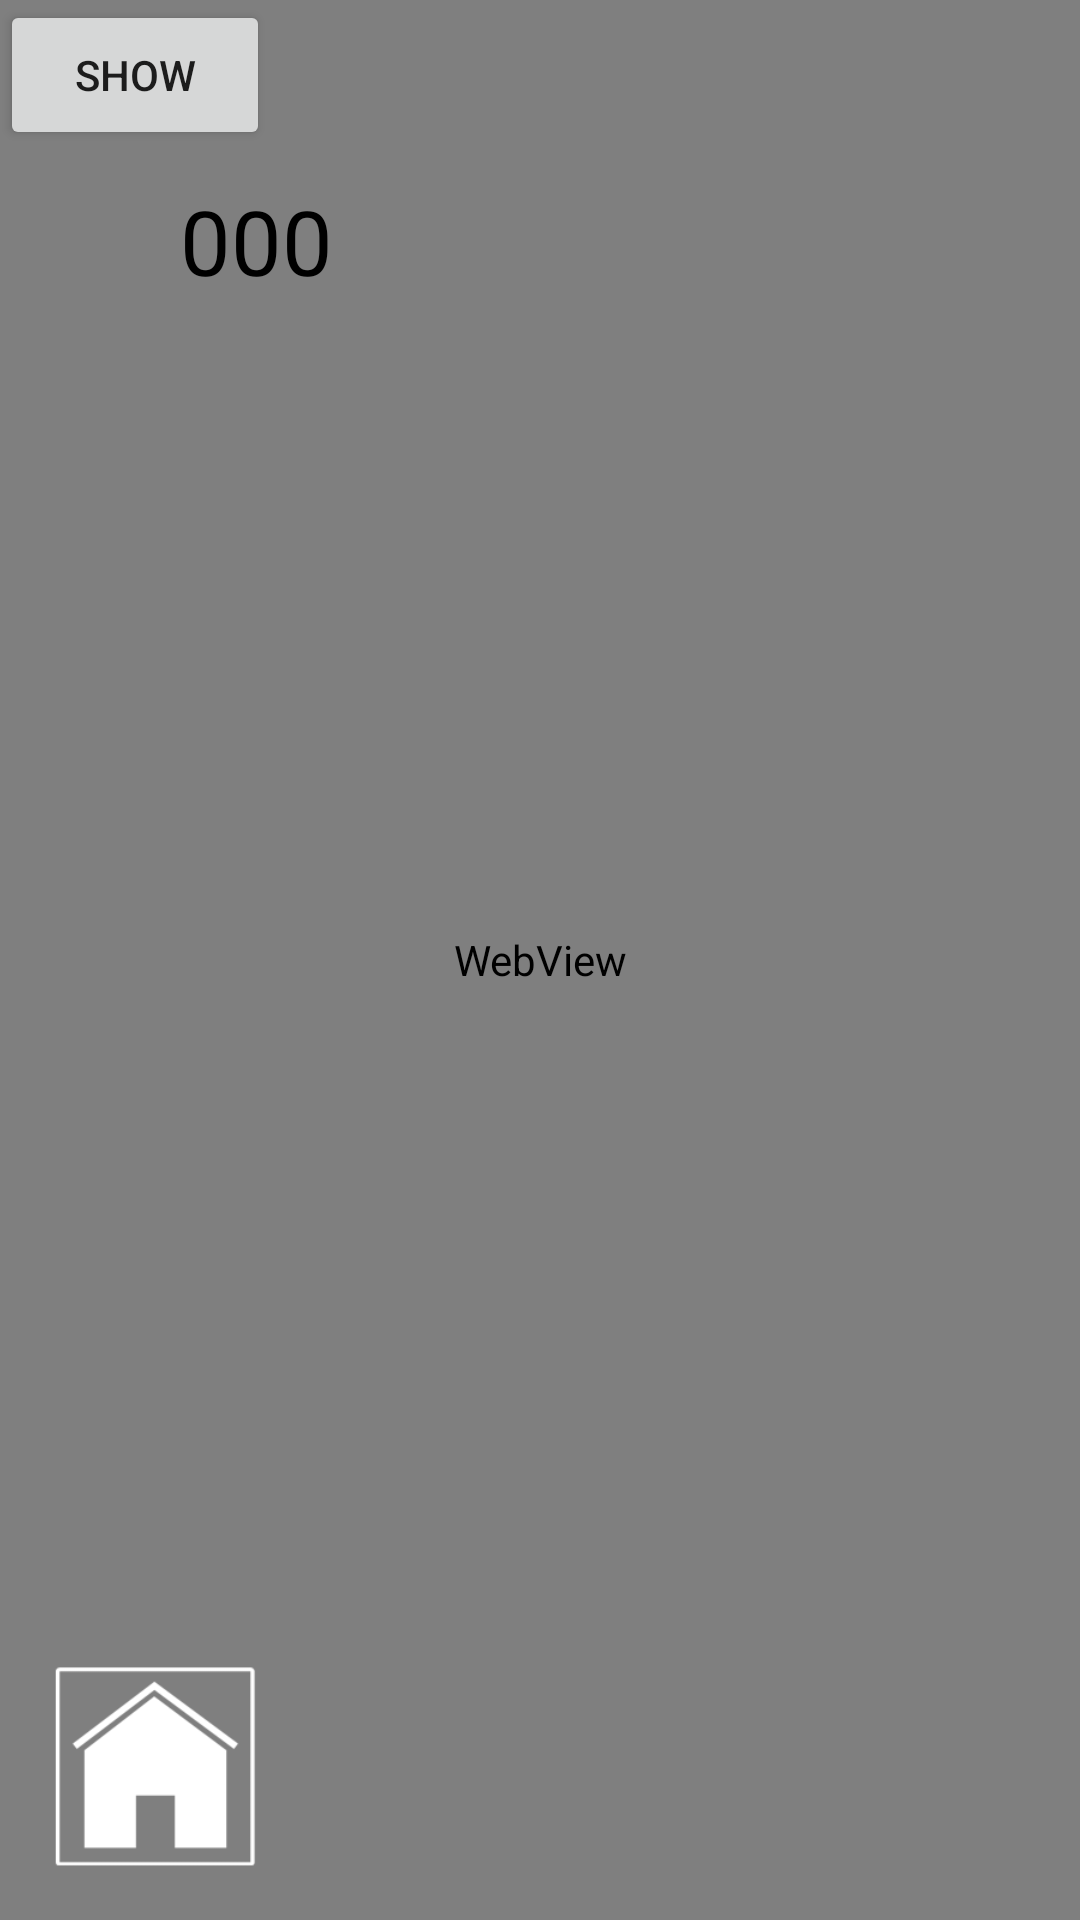

Icons on this 1080 x 1920 Android screen, each with the point to tap as [x,y]:
home: [155,1766]
